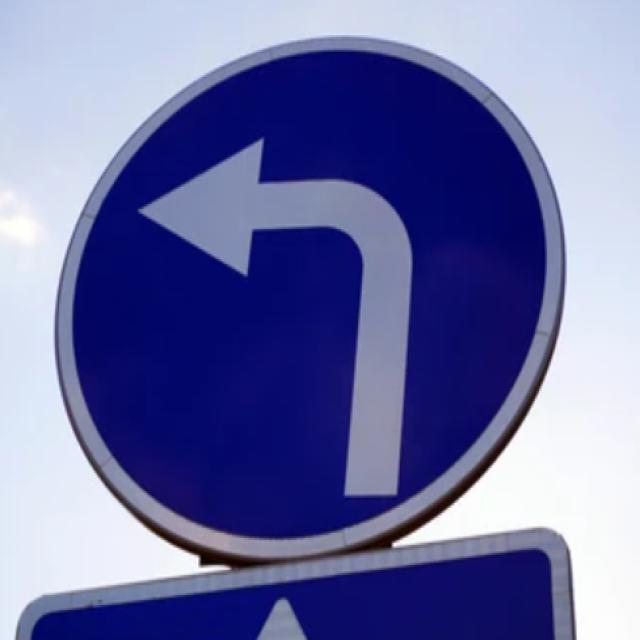LEFT: (56, 38, 564, 558)
